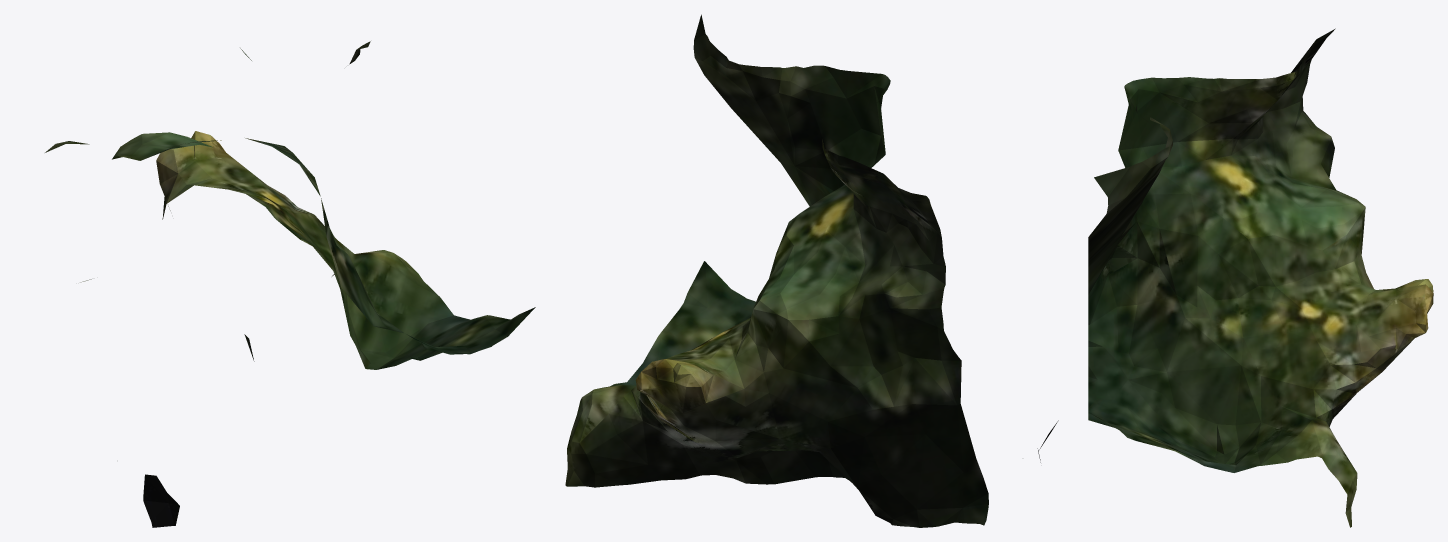
The picture shows the model from 3 angles, left to right: view 1: azimuth 30°, elevation 25°; view 2: azimuth 150°, elevation 25°; view 3: azimuth 270°, elevation 25°; orthographic projection. The views are drawn at different scales.
Size of the model in its own units: 0.8373 by 0.8373 by 0.7475.
4 materials, 4 textured.
